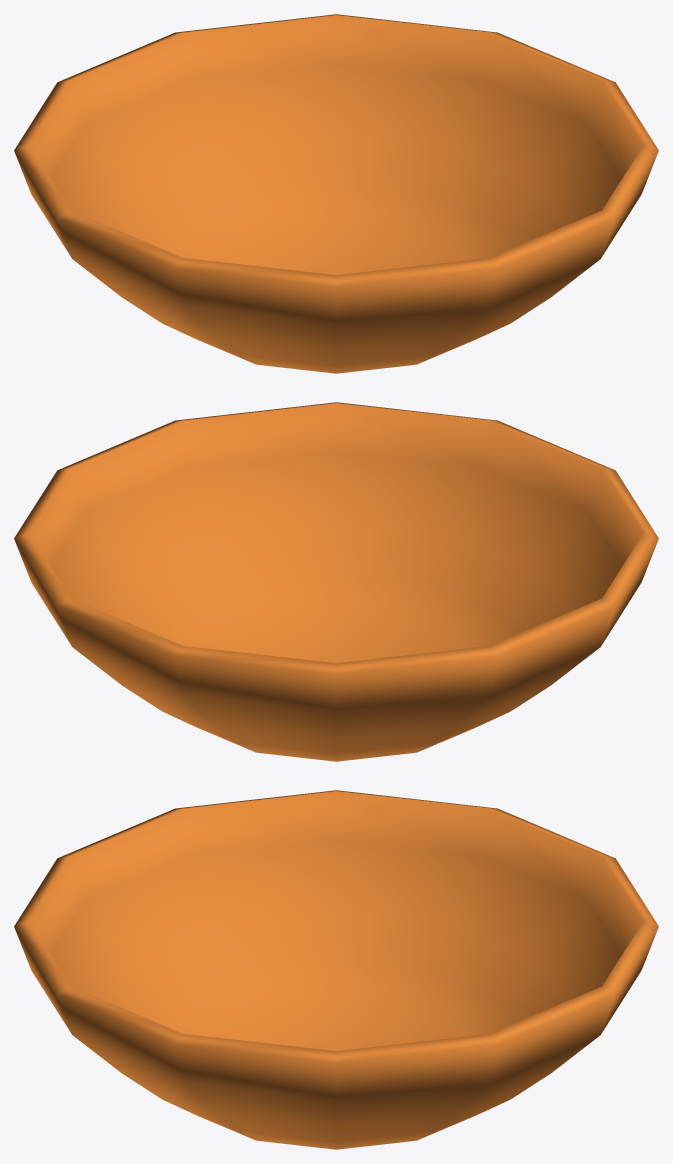
File: plate_big.fbx
3 renders of one model, top to bottom at view 1: azimuth 30°, elevation 25°; view 2: azimuth 150°, elevation 25°; view 3: azimuth 270°, elevation 25°, orthographic.
Visible parts, largest first — view 1: plate_big; view 2: plate_big; view 3: plate_big.
Part boxes in pixels (box(x1,y1,x2,y2)): plate_big: box(14, 14, 658, 373); plate_big: box(14, 402, 658, 761); plate_big: box(14, 790, 658, 1149).
Size of the model in its own units: 259 by 76.95 by 259.
